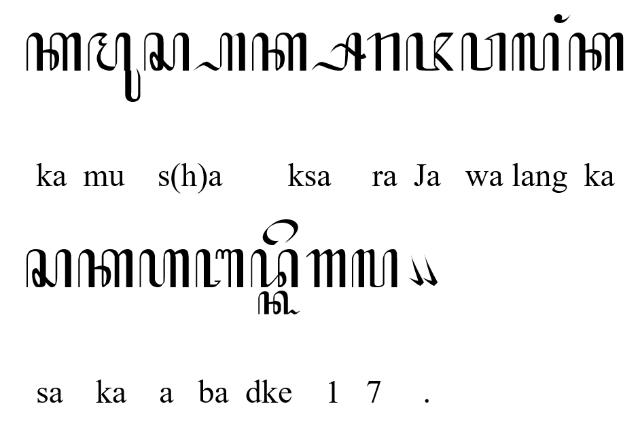_h: (193, 32, 247, 72)
_k: (257, 290, 301, 316)
_s: (311, 31, 367, 71)
b: (196, 249, 244, 289)
d: (250, 248, 298, 288)
e: (262, 218, 298, 245)
g: (304, 248, 346, 288)
h: (139, 248, 191, 288)
j: (406, 32, 454, 72)
k: (251, 32, 307, 72), (568, 32, 624, 72), (77, 248, 133, 288), (26, 32, 82, 70)
kom: (408, 254, 424, 286), (422, 254, 438, 286)
l: (512, 31, 560, 71), (350, 248, 398, 288)
mu: (87, 32, 141, 102)
ng: (554, 13, 570, 23)
r: (366, 32, 399, 72)
s: (144, 31, 190, 71), (26, 249, 72, 289)
w: (460, 32, 506, 70)
